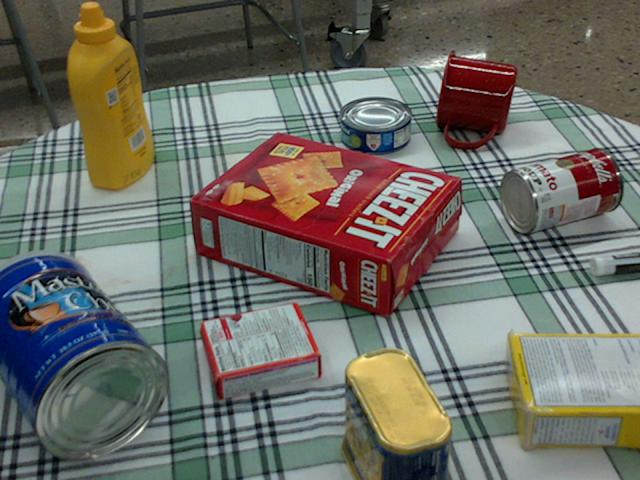cracker_box: (188, 130, 460, 317)
gelatin_box: (198, 302, 323, 396)
large_marker: (591, 253, 639, 274)
master_chef_can: (0, 250, 167, 460)
mug: (435, 50, 517, 147)
mustard_bottle: (68, 2, 153, 189)
potted_meat_can: (340, 346, 452, 479)
sugar_box: (505, 335, 639, 452)
tomato_soup_can: (500, 147, 622, 231)
tuna_fish_can: (339, 97, 412, 153)
